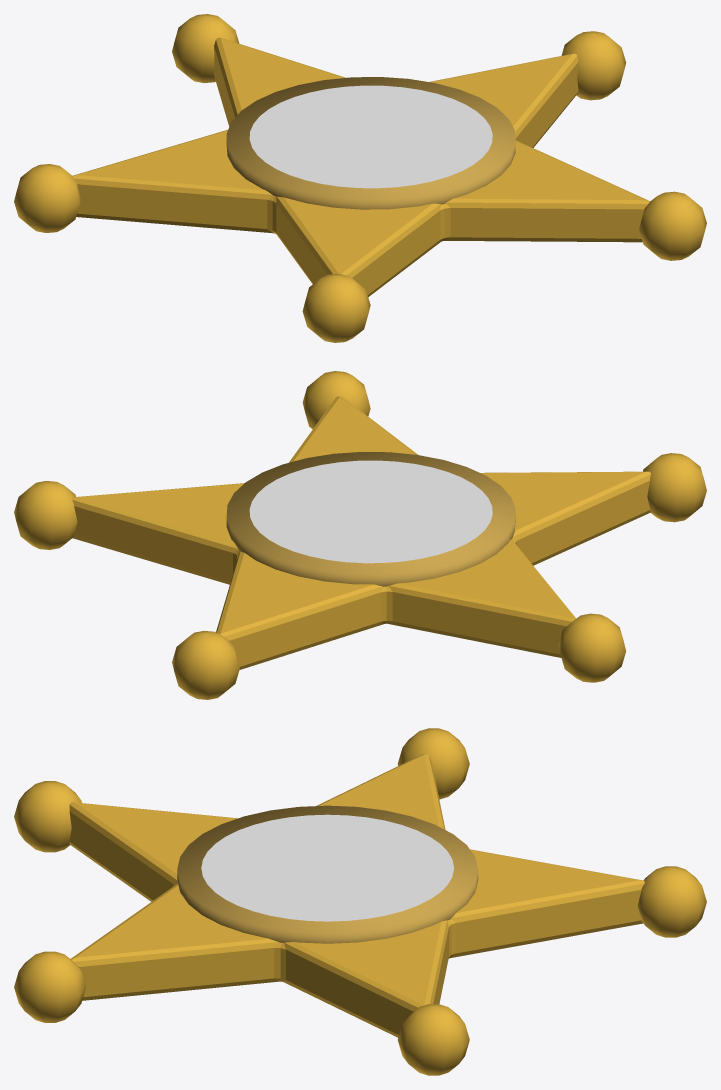
File: kc_xerife.glb
3 renders of one model, top to bottom at view 1: azimuth 30°, elevation 25°; view 2: azimuth 150°, elevation 25°; view 3: azimuth 270°, elevation 25°, orthographic. The views are drawn at different scales.
Parts seen in each view (by area): view 1: star, screen, Cylinder, Sphere.002, Sphere.003, Sphere.001, Sphere.004, Sphere; view 2: star, screen, Cylinder, Sphere, Sphere.001, Sphere.004, Sphere.002, Sphere.003; view 3: star, screen, Cylinder, Sphere.004, Sphere.003, Sphere, Sphere.002, Sphere.001.
Boxes of the visible parts, x1=… form: star: x1=72, y1=37, x2=650, y2=296; screen: x1=249, y1=85, x2=492, y2=188; Cylinder: x1=226, y1=77, x2=515, y2=209; Sphere.002: x1=302, y1=273, x2=370, y2=342; Sphere.003: x1=639, y1=191, x2=706, y2=260; Sphere.001: x1=14, y1=164, x2=80, y2=232; Sphere.004: x1=561, y1=31, x2=626, y2=100; Sphere: x1=172, y1=14, x2=239, y2=83; star: x1=72, y1=396, x2=650, y2=669; screen: x1=249, y1=460, x2=492, y2=563; Cylinder: x1=226, y1=452, x2=515, y2=586; Sphere: x1=172, y1=630, x2=239, y2=699; Sphere.001: x1=558, y1=613, x2=626, y2=682; Sphere.004: x1=14, y1=481, x2=77, y2=549; Sphere.002: x1=643, y1=453, x2=706, y2=522; Sphere.003: x1=302, y1=371, x2=370, y2=429; star: x1=69, y1=753, x2=644, y2=1037; screen: x1=201, y1=814, x2=453, y2=921; Cylinder: x1=177, y1=805, x2=478, y2=943; Sphere.004: x1=397, y1=1004, x2=469, y2=1075; Sphere.003: x1=14, y1=951, x2=85, y2=1022; Sphere: x1=637, y1=866, x2=706, y2=937; Sphere.002: x1=14, y1=781, x2=81, y2=852; Sphere.001: x1=397, y1=728, x2=469, y2=799.
Size of the model in its own units: 1.2 by 0.122 by 1.15.
